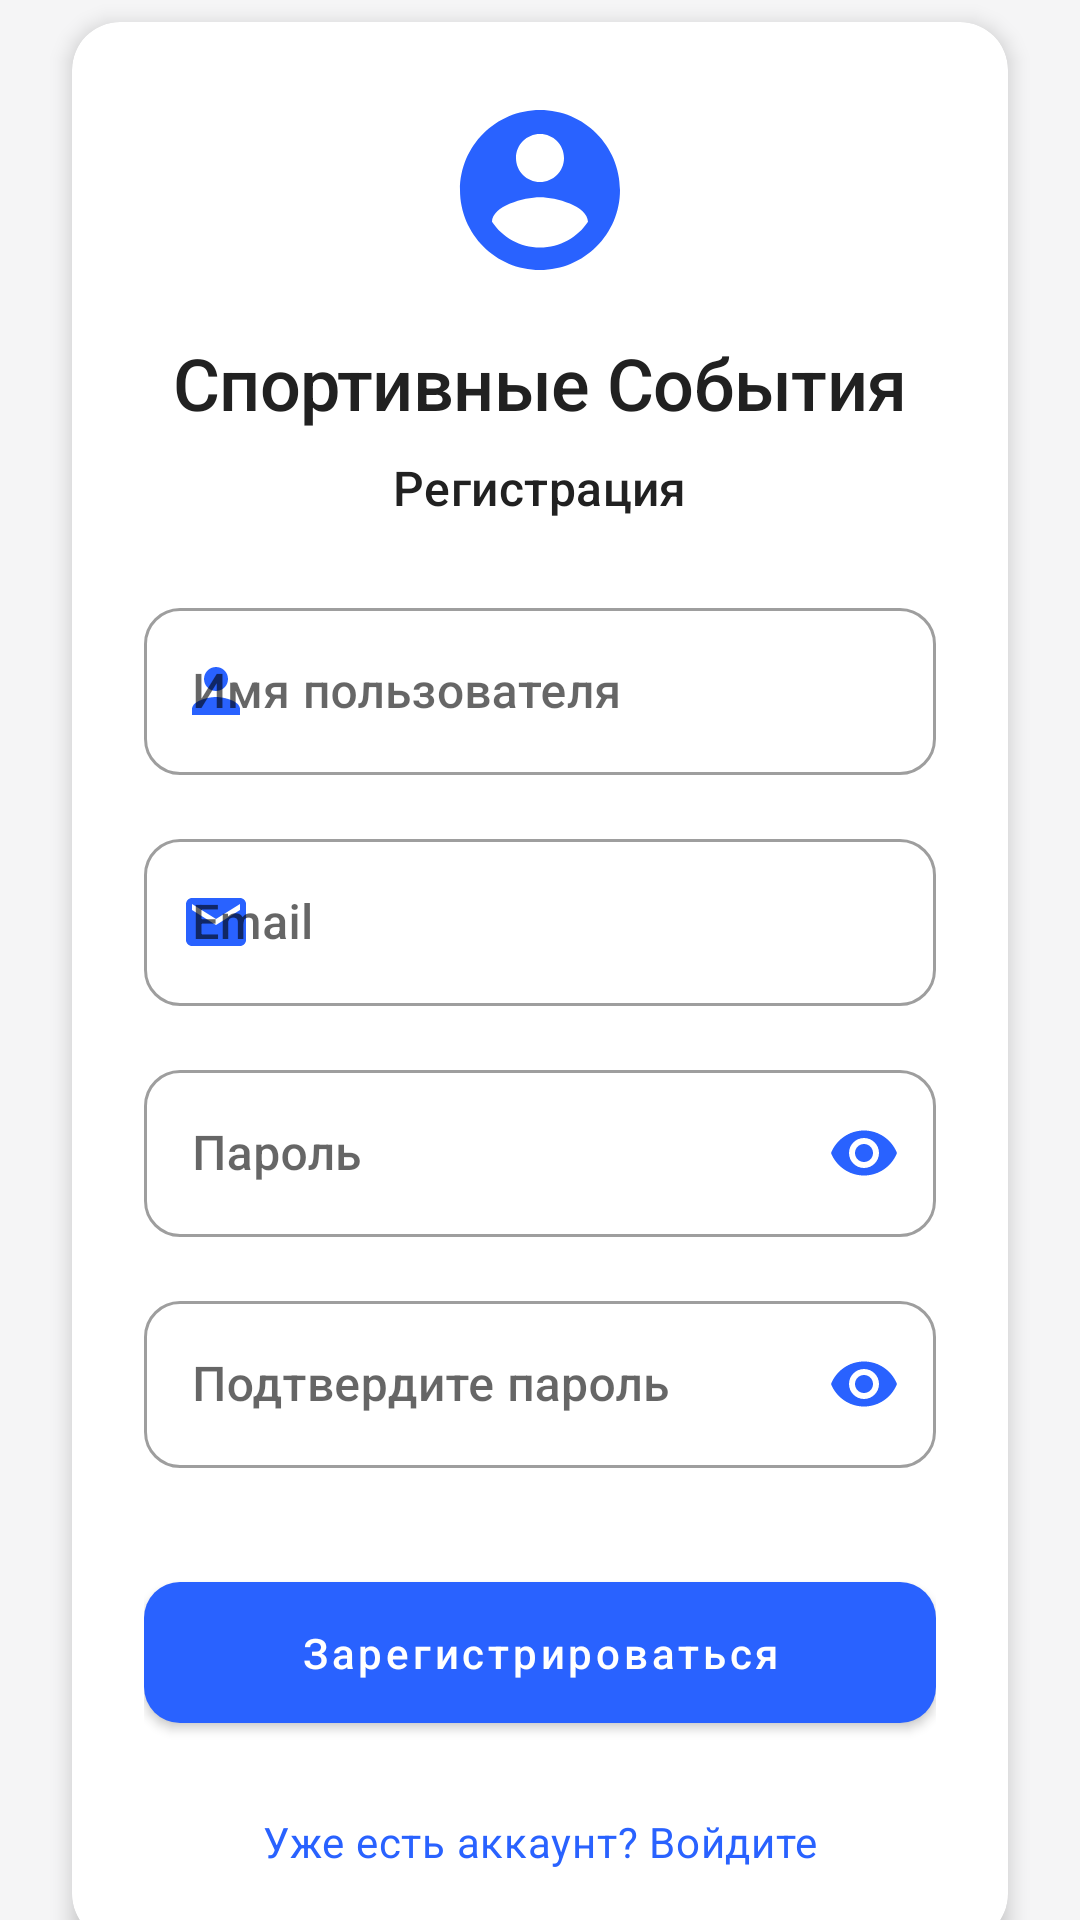

Icon click points for this 1080px×1920px phone screenshot, format (x=x, y=y):
account circle: (x=540, y=190)
